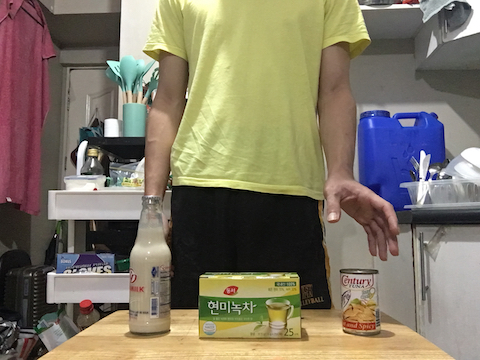bottle: (125, 192, 179, 337)
box: (196, 271, 305, 346)
can: (338, 265, 383, 338)
